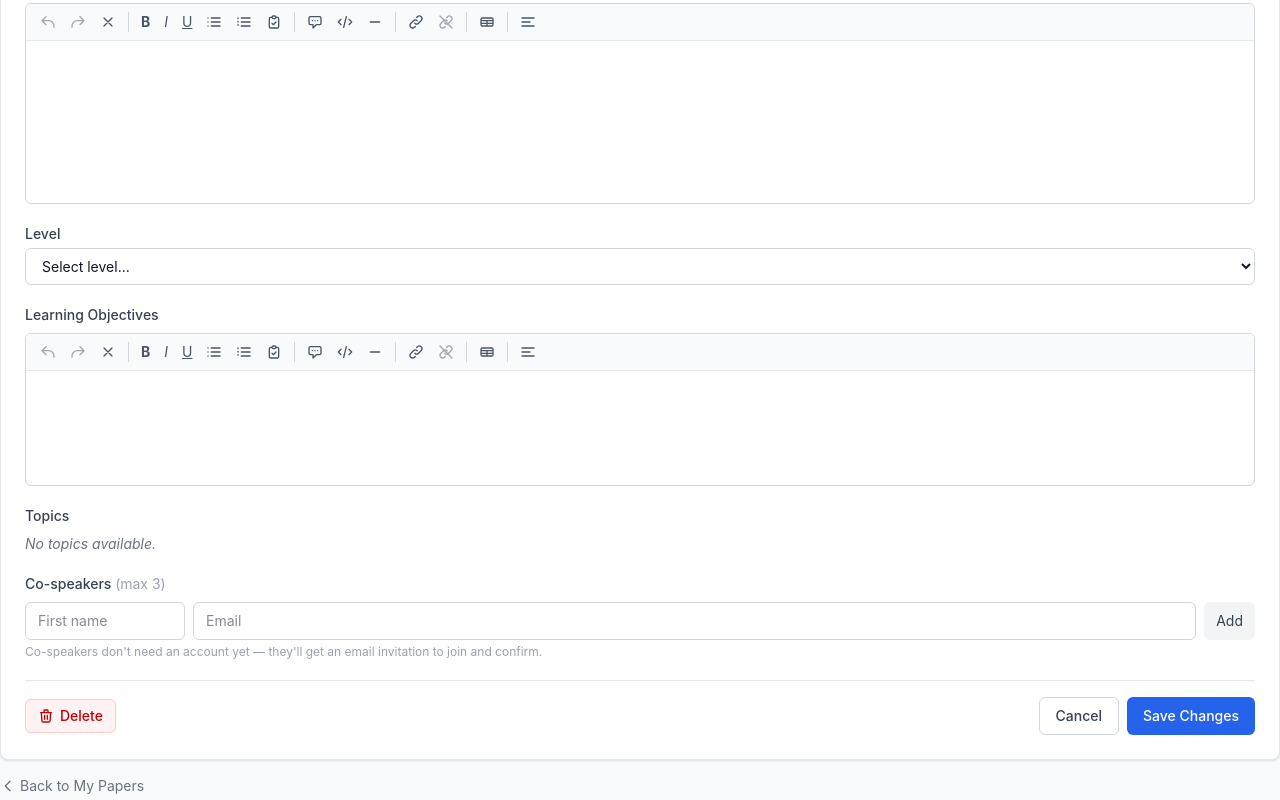
Test: PaperDetailPage › draft paper — view mode (after cancelling edit) › clicking Edit returns to edit mode and hides Submit Paper again
This screenshot has width=1280, height=800.
(page scrolled)
Expected: the button "Save Changes" is shown, [1127,697,1255,735]
Click the button "Cancel": (1079, 716) [1038,697,1119,735]
(page scrolled)
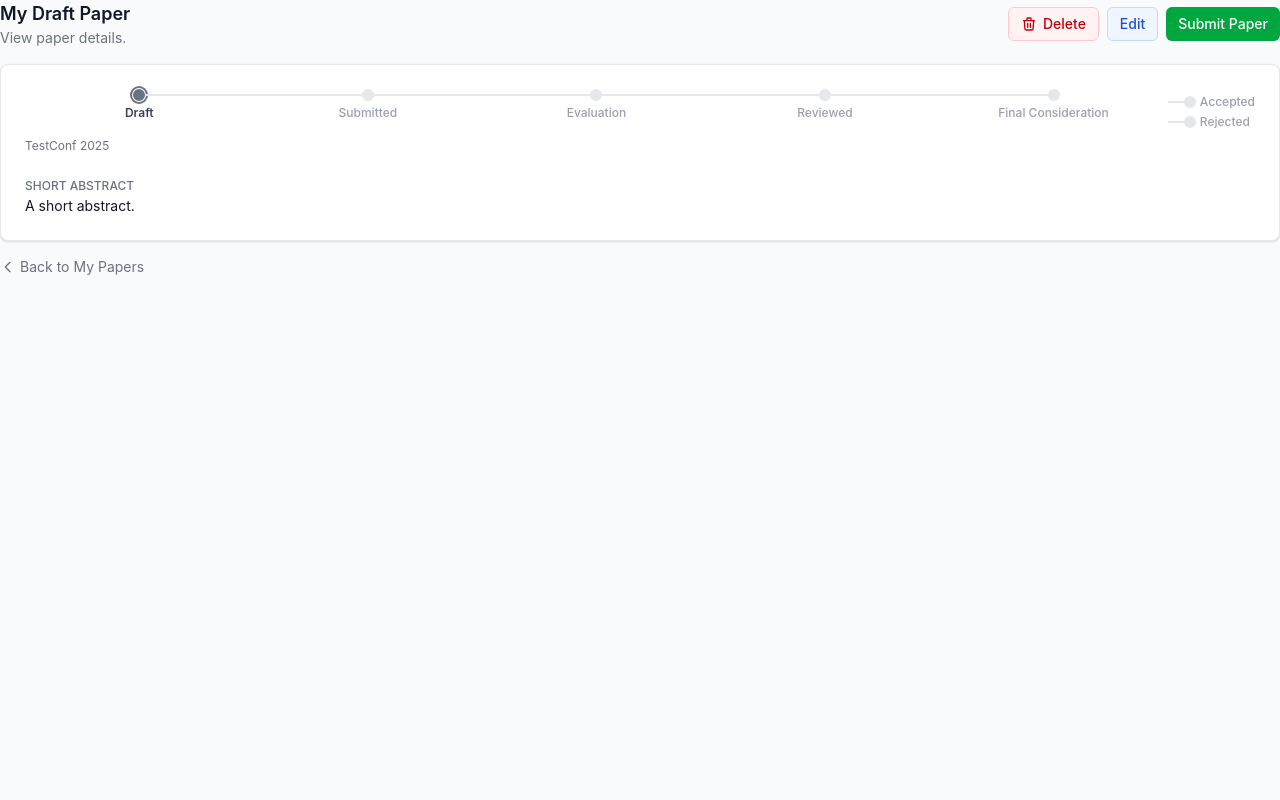
Expected: the button "Submit Paper" is shown, [1166,7,1279,41]
Click the button "Edit": (1133, 24) [1107,7,1158,41]
(page scrolled)
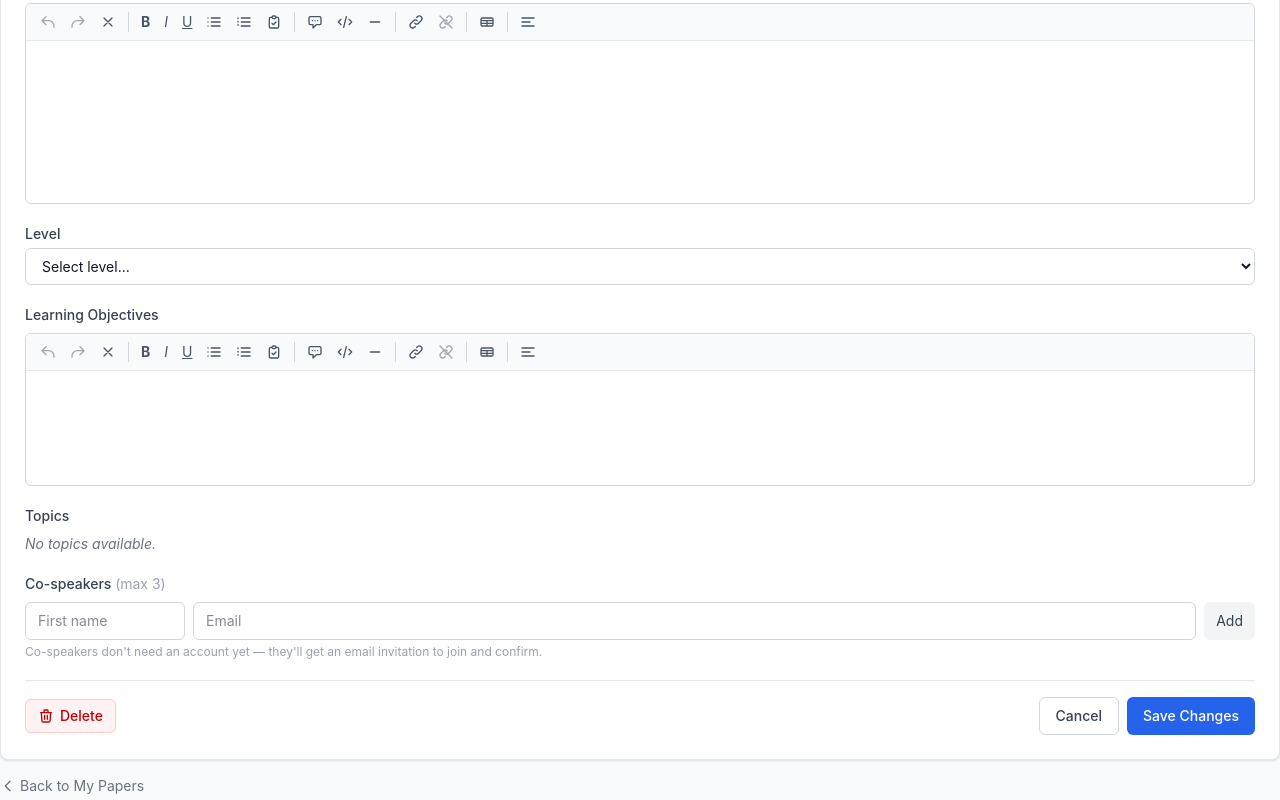
Expected: the button "Submit Paper" is gone
Expected: the button "Save Changes" is shown, [1127,697,1255,735]
